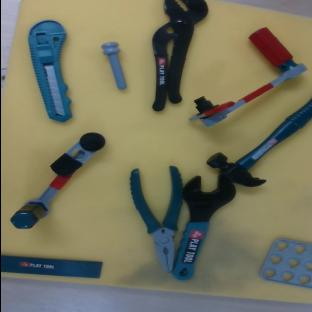non_pass: (5, 123, 107, 237)
pass: (167, 19, 306, 134)
